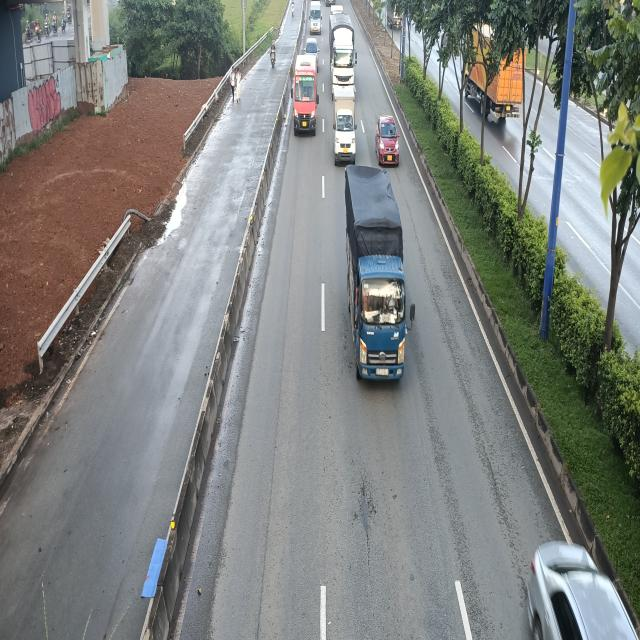car: (375, 116, 400, 168)
truck: (344, 167, 416, 386), (329, 15, 357, 96), (334, 84, 359, 165)
van: (290, 54, 318, 138), (310, 0, 322, 33)
